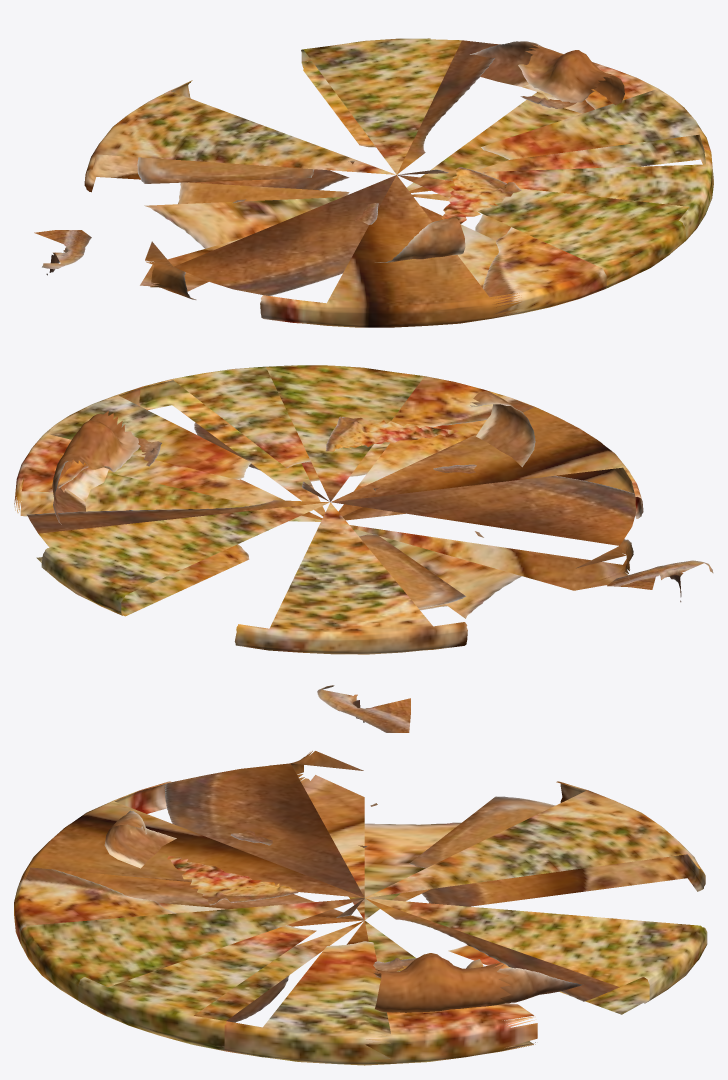
Rendered from pizza_cuatro_quesos.fbx.
3 renders of one model, top to bottom at view 1: azimuth 30°, elevation 25°; view 2: azimuth 150°, elevation 25°; view 3: azimuth 270°, elevation 25°, orthographic. The views are drawn at different scales.
Visible parts, largest first — view 1: meshes[0]; view 2: meshes[0]; view 3: meshes[0].
Part boxes in pixels (x1,y1,x2,y2): meshes[0]: (34,38,713,327); meshes[0]: (14,365,713,654); meshes[0]: (14,685,707,1065).
Size of the model in its own units: 99.8 by 12.3 by 83.01.
